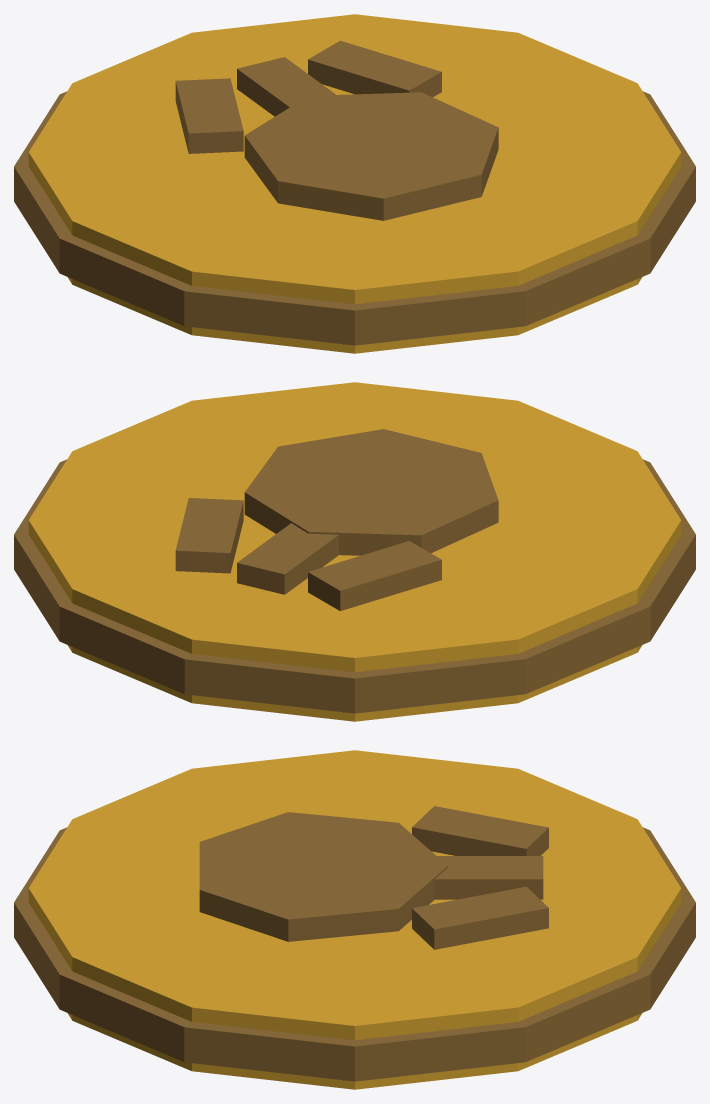
The model's file is mdvl_food_coin_01.glb.
3 views of the same model, one above another, from view 1: azimuth 30°, elevation 25°; view 2: azimuth 150°, elevation 25°; view 3: azimuth 270°, elevation 25° (orthographic).
Visible parts, largest first — view 1: mdvl_food_coin_01; view 2: mdvl_food_coin_01; view 3: mdvl_food_coin_01.
Part boxes in pixels (x1,y1,x2,y2): mdvl_food_coin_01: [14, 14, 695, 353]; mdvl_food_coin_01: [14, 382, 695, 721]; mdvl_food_coin_01: [14, 750, 695, 1089].
Bounding box in the file's own units: 0.0272 × 0.00378 × 0.0272.
Materials: 1 (1 with a texture image).
